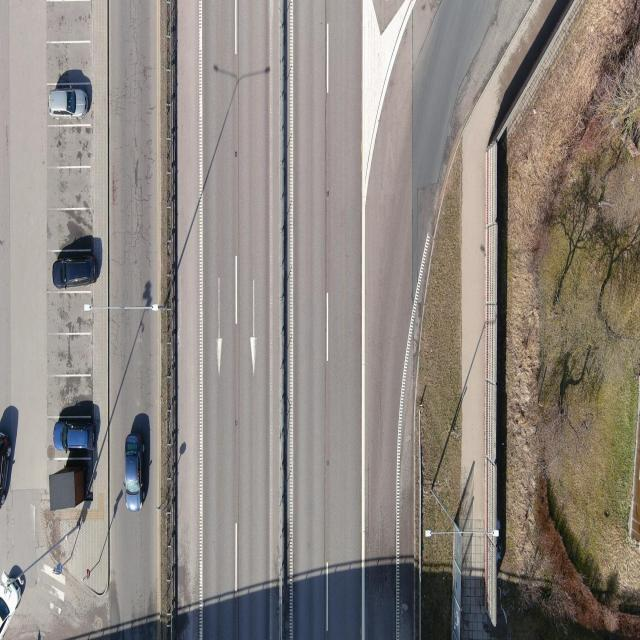Car: (51, 402, 99, 497), (120, 417, 153, 516), (51, 235, 103, 289), (48, 70, 92, 120), (0, 557, 28, 634), (0, 407, 18, 509)
